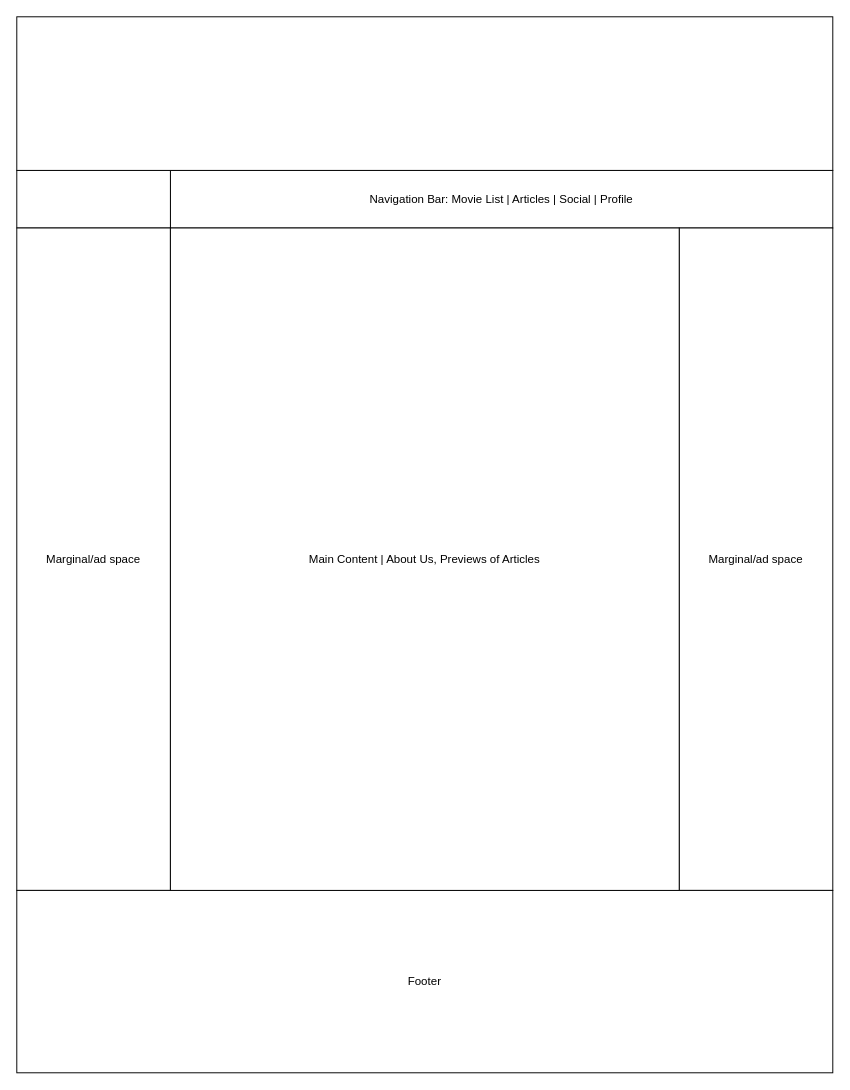
Image size: 850x1090. Some labels were removed from this diagram. Here are the shapes that lost their labels. From the top down, the box of each, then its label:
(16, 16, 833, 170): Header Image/Header Video
(16, 169, 170, 228): Logo
